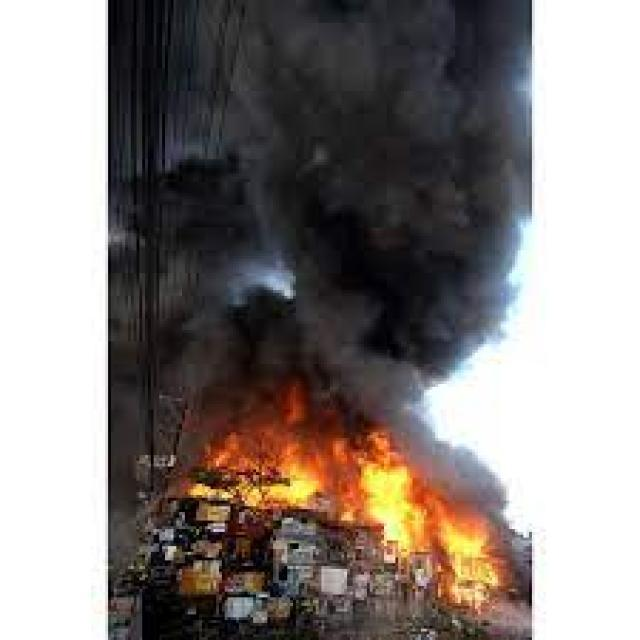Fire: (223, 441, 558, 599)
Smoke: (110, 1, 564, 438)
